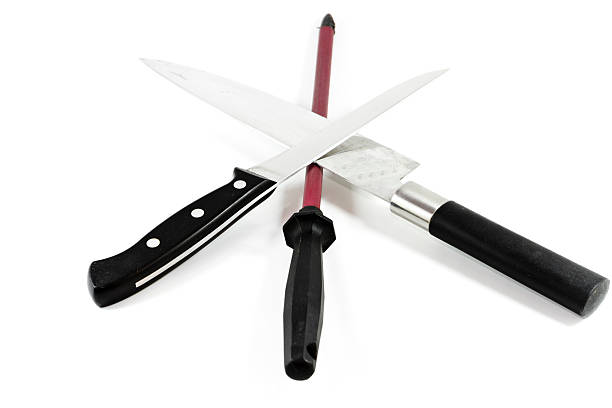knife: (136, 55, 612, 321), (85, 66, 454, 311)
